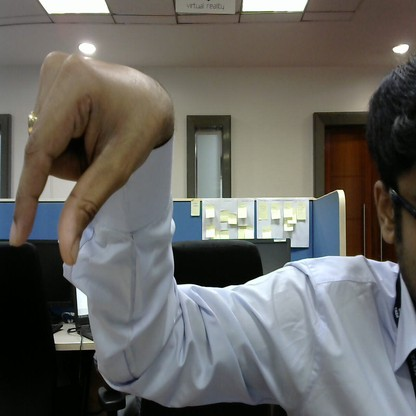q: (10, 45, 178, 266)
